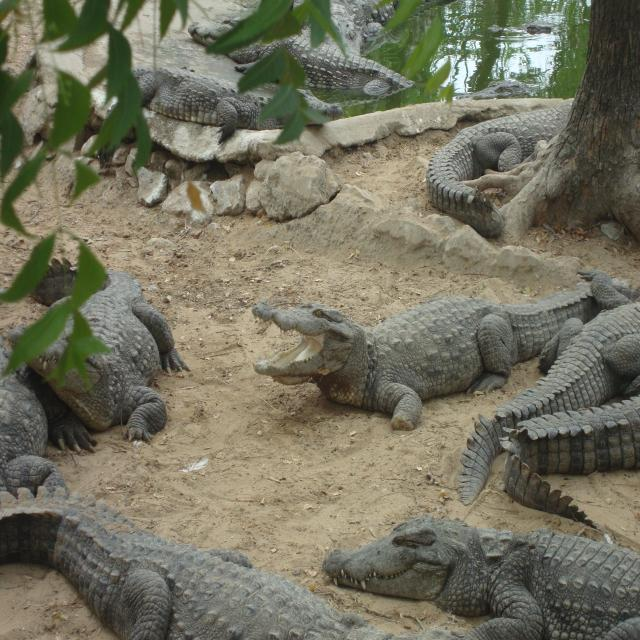crocodile: (227, 255, 640, 452)
